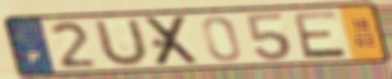0: (199, 15, 243, 63)
2: (48, 20, 100, 71)
5: (245, 11, 295, 62)
E: (290, 10, 350, 61)
U: (93, 17, 151, 70)
X: (142, 14, 203, 68)
